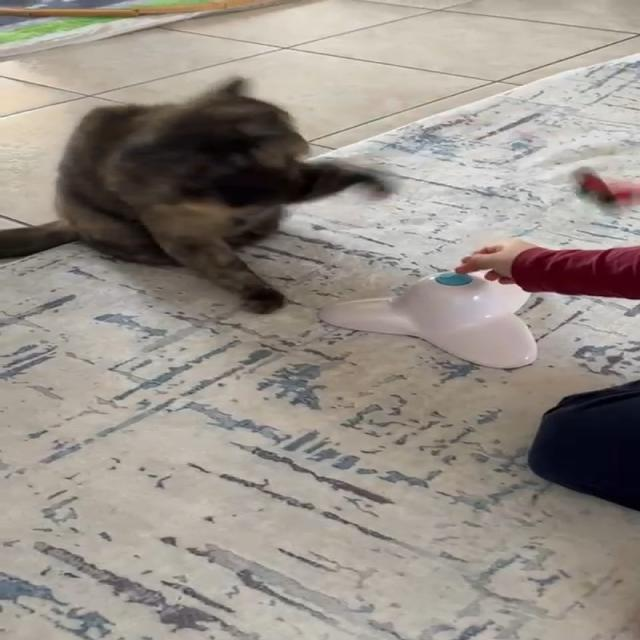authorized: (0, 76, 403, 314)
